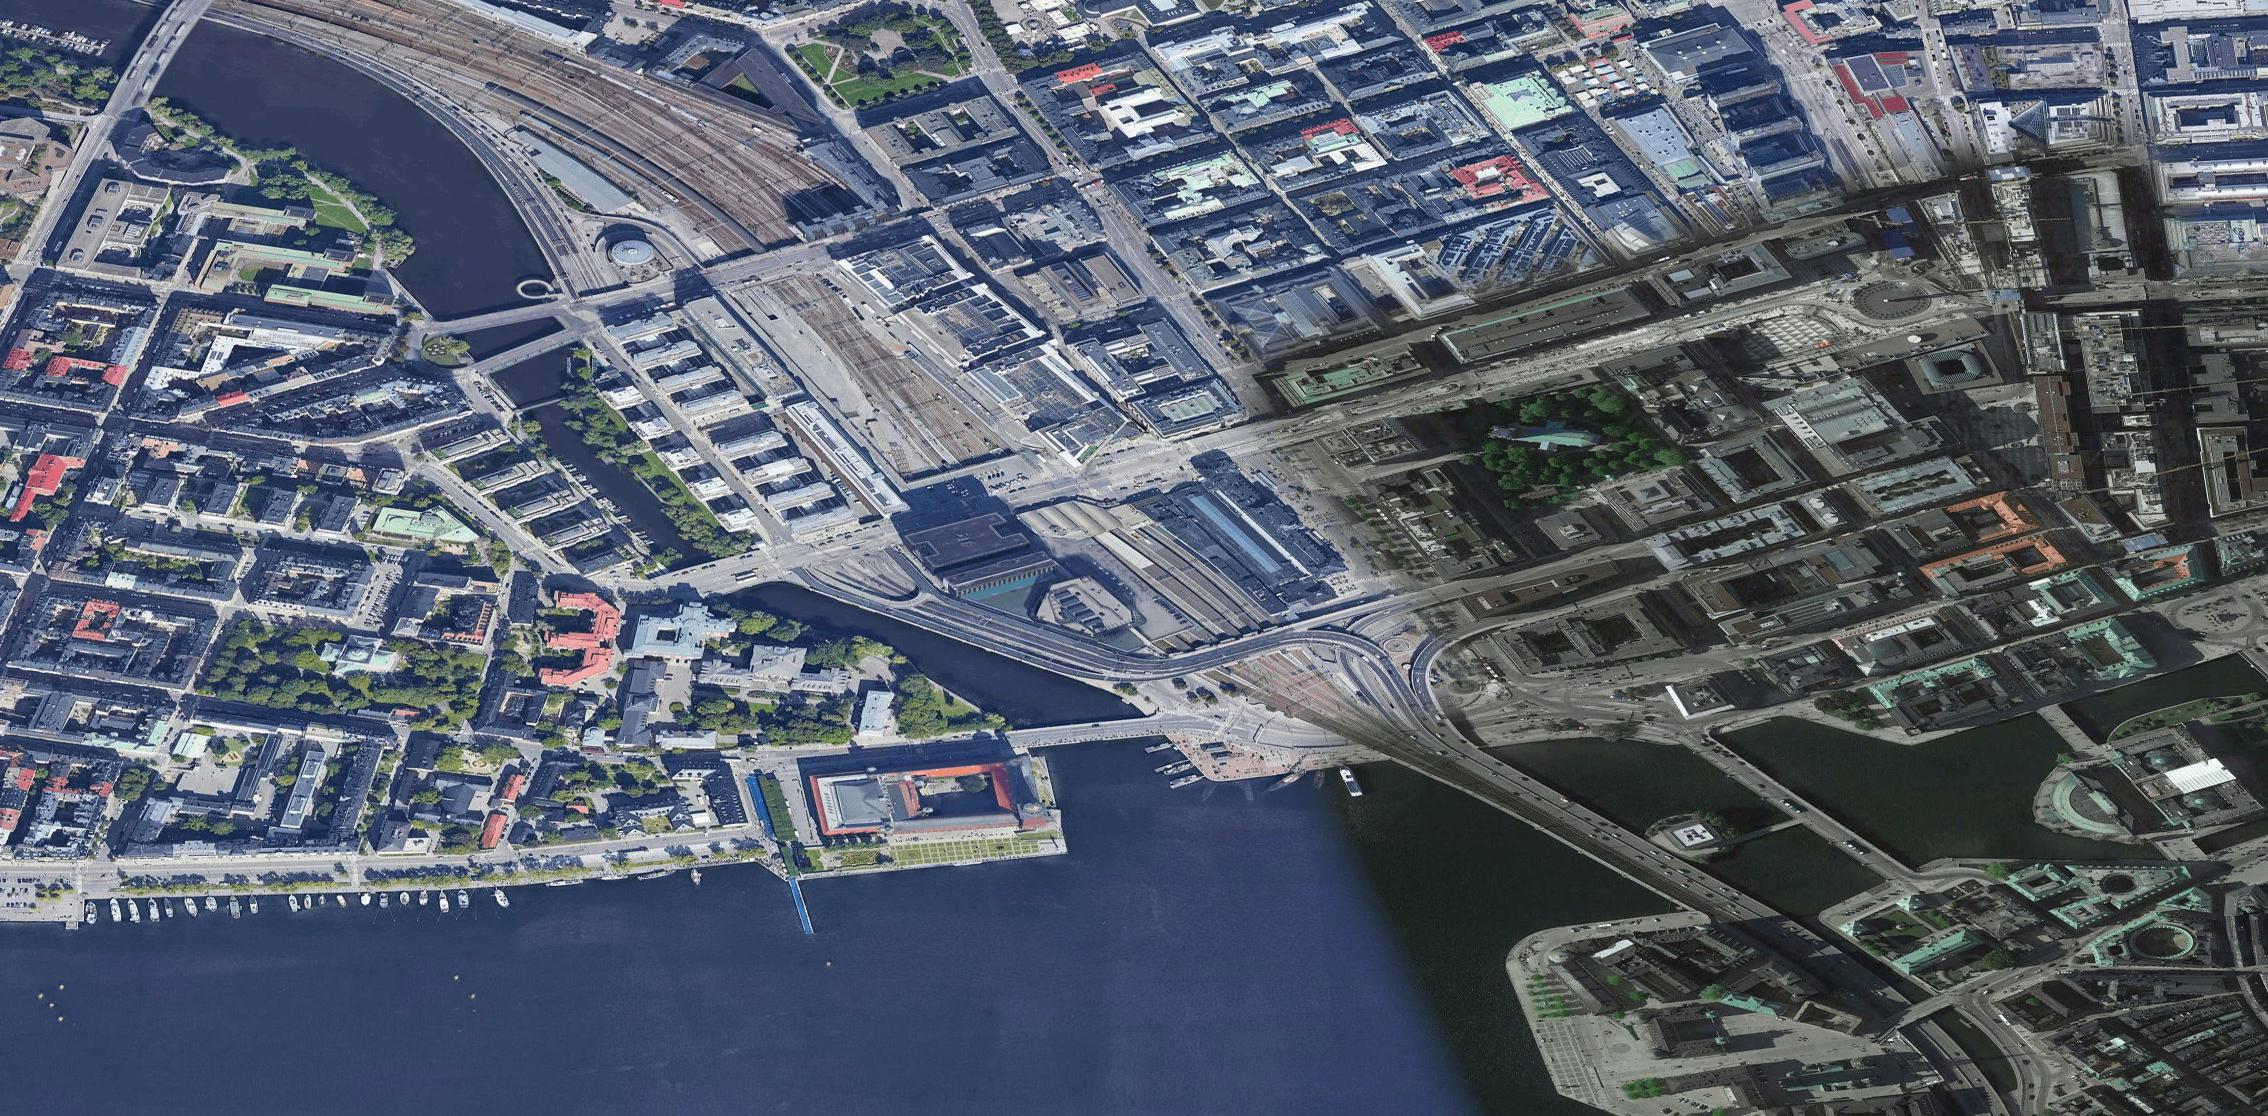bridge: (1417, 743, 1730, 917), (1698, 742, 1901, 877), (1010, 704, 1160, 752), (121, 4, 197, 91), (448, 291, 558, 338), (477, 334, 574, 386), (673, 549, 769, 601), (2025, 701, 2110, 756)
train_station: (720, 189, 1099, 489)
